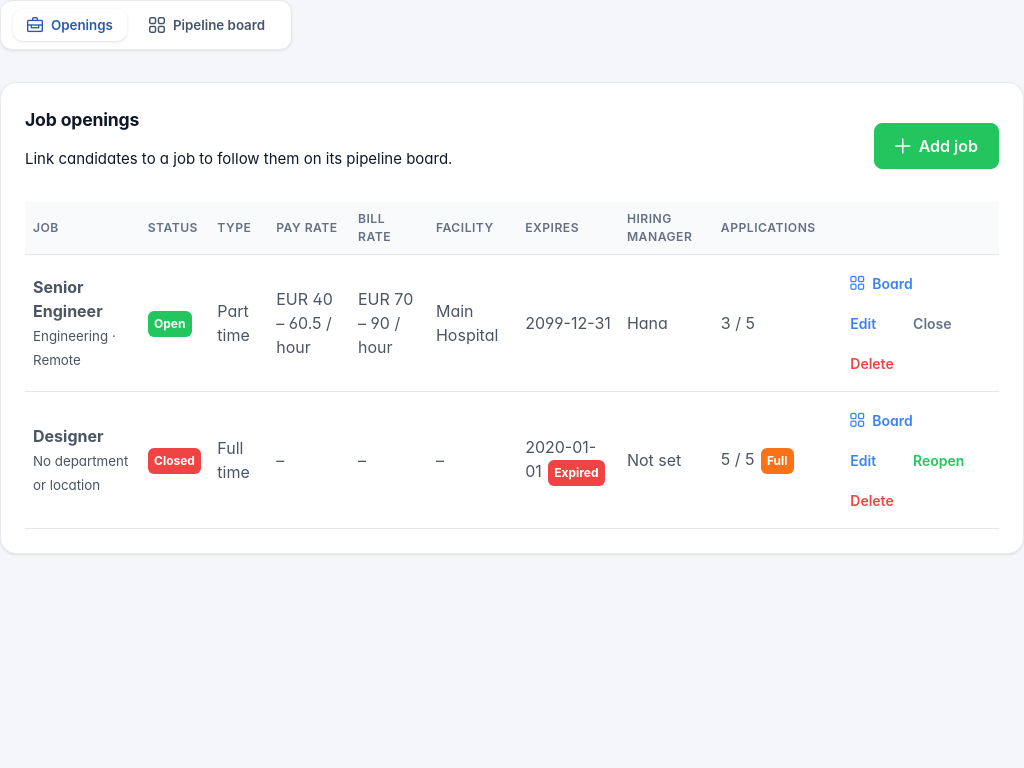
it: JobsModule: pipeline board › puts the card back and explains when the server refuses the move
Click the tab with class "jobs-tab" showing "Pipeline board": (207, 25) [135,9,279,41]
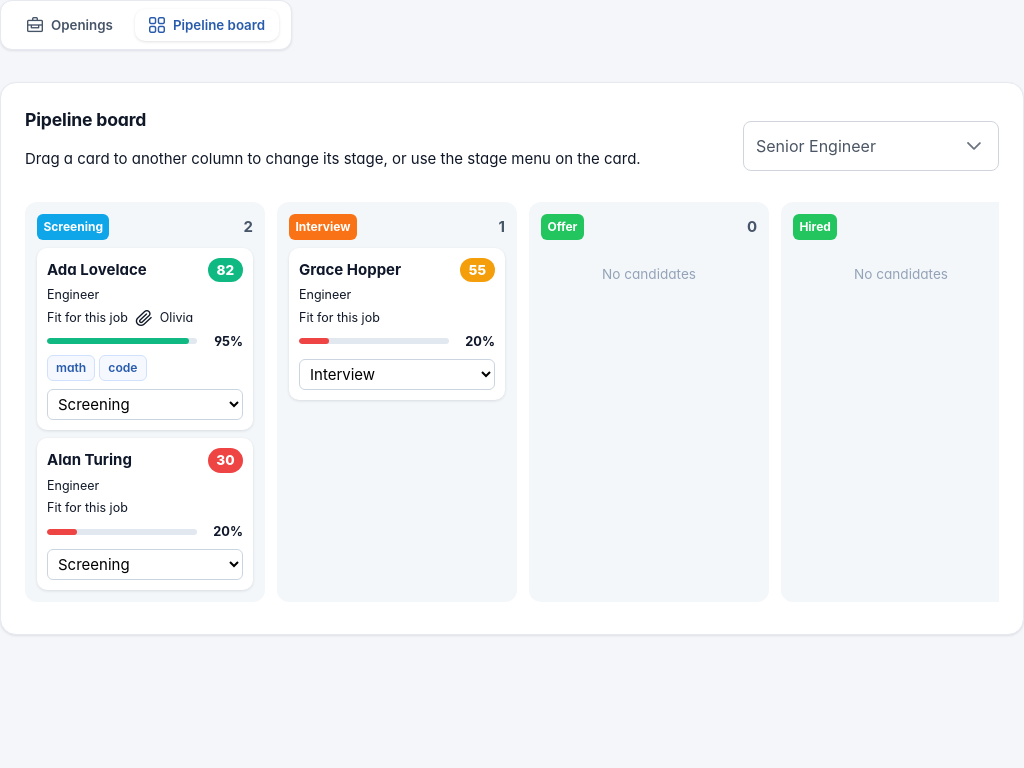
Select "Rejected" in the dropdown named "Move Ada Lovelace to stage": (145, 405) [47,389,243,420]
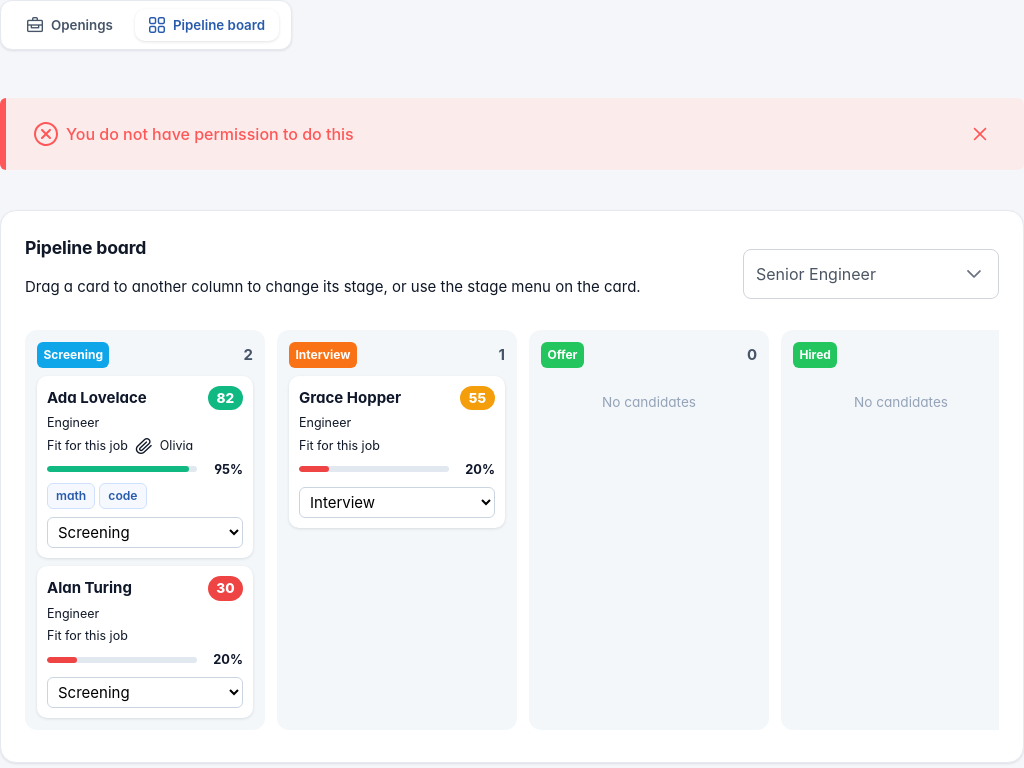
Check: the text "You do not have permission to do this" is shown, box [66,122,354,146]
